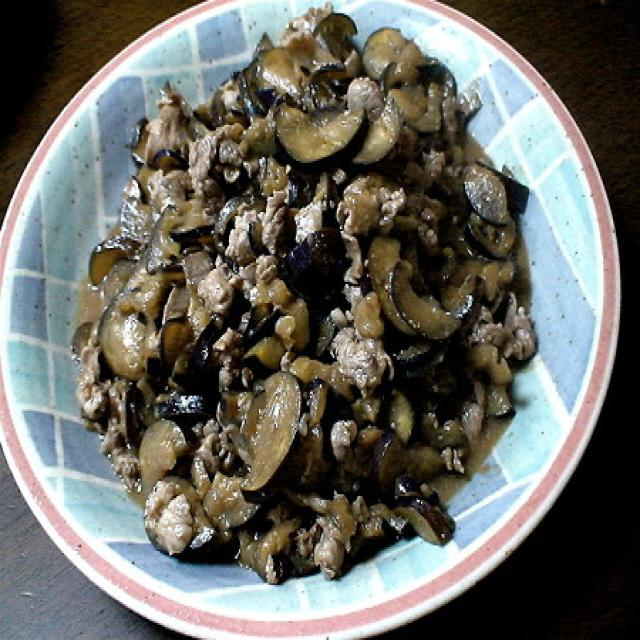鸡蛋料理: (41, 0, 565, 600)
